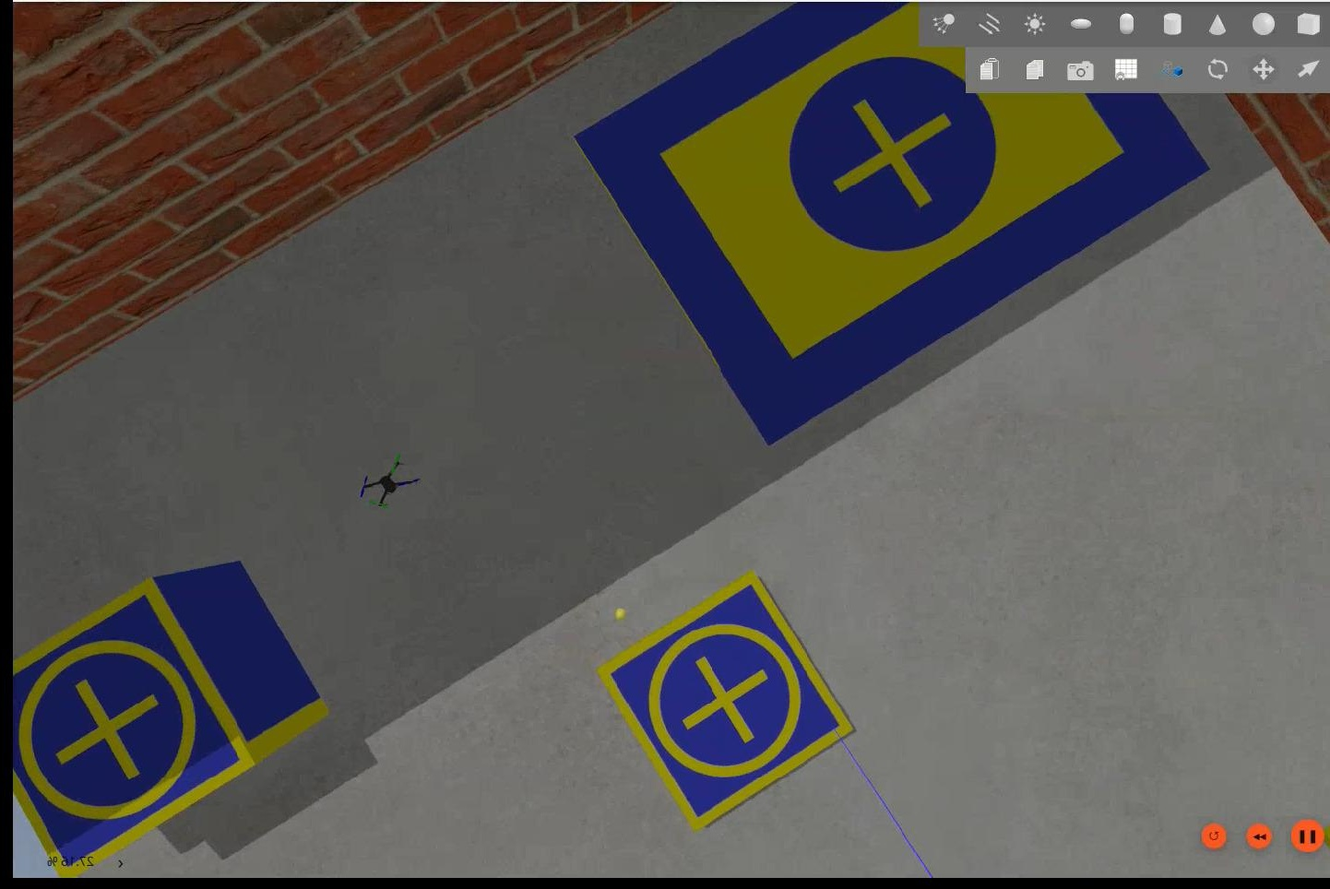large_base: (569, 1, 1207, 439)
small_base: (10, 579, 259, 883), (592, 573, 854, 836)
